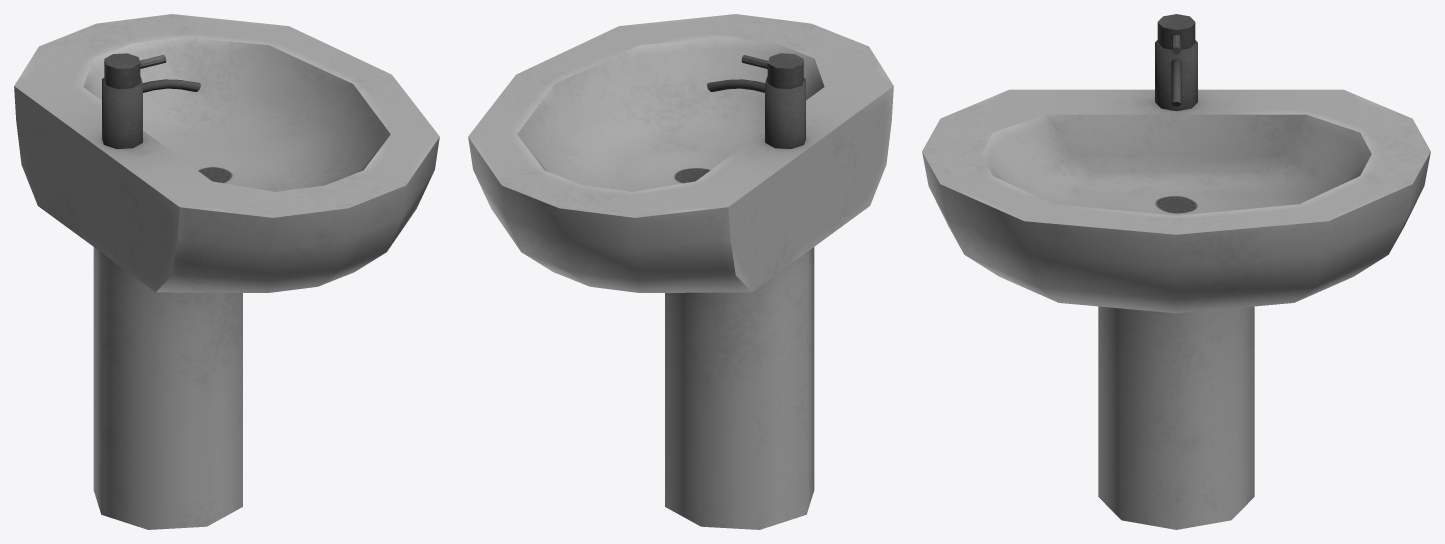
Rendered from Sink.fbx.
3 views of the same model, side by side, from view 1: azimuth 30°, elevation 25°; view 2: azimuth 150°, elevation 25°; view 3: azimuth 270°, elevation 25° (orthographic).
Parts seen in each view (by area): view 1: rakovina; view 2: rakovina; view 3: rakovina.
Part boxes in pixels (box(x1,y1,x2,y2)): rakovina: box(14, 14, 439, 529); rakovina: box(468, 14, 893, 529); rakovina: box(922, 14, 1430, 529).
Size of the model in its own units: 150 by 218 by 222.
1 material, 1 textured.
